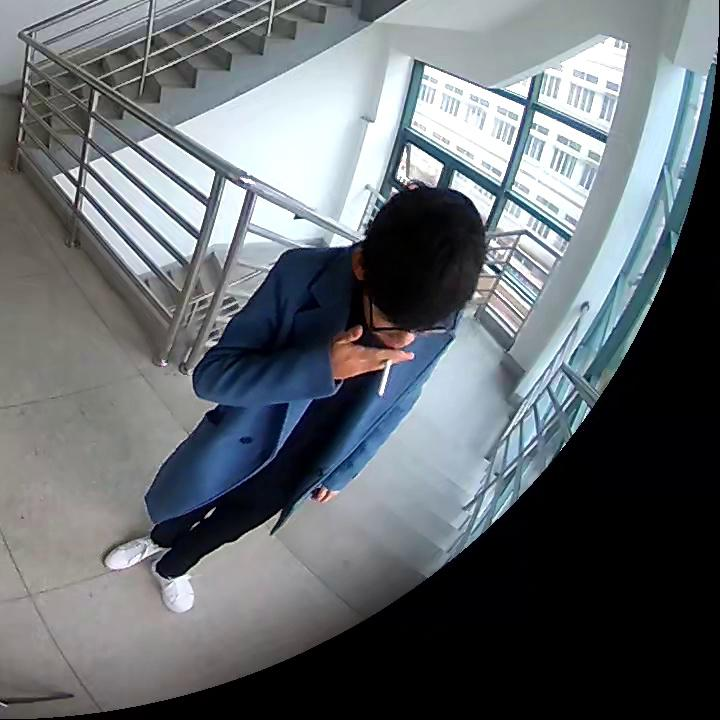handwithoutsmoke: (310, 483, 338, 507)
mouthsmoke: (331, 184, 486, 399)
